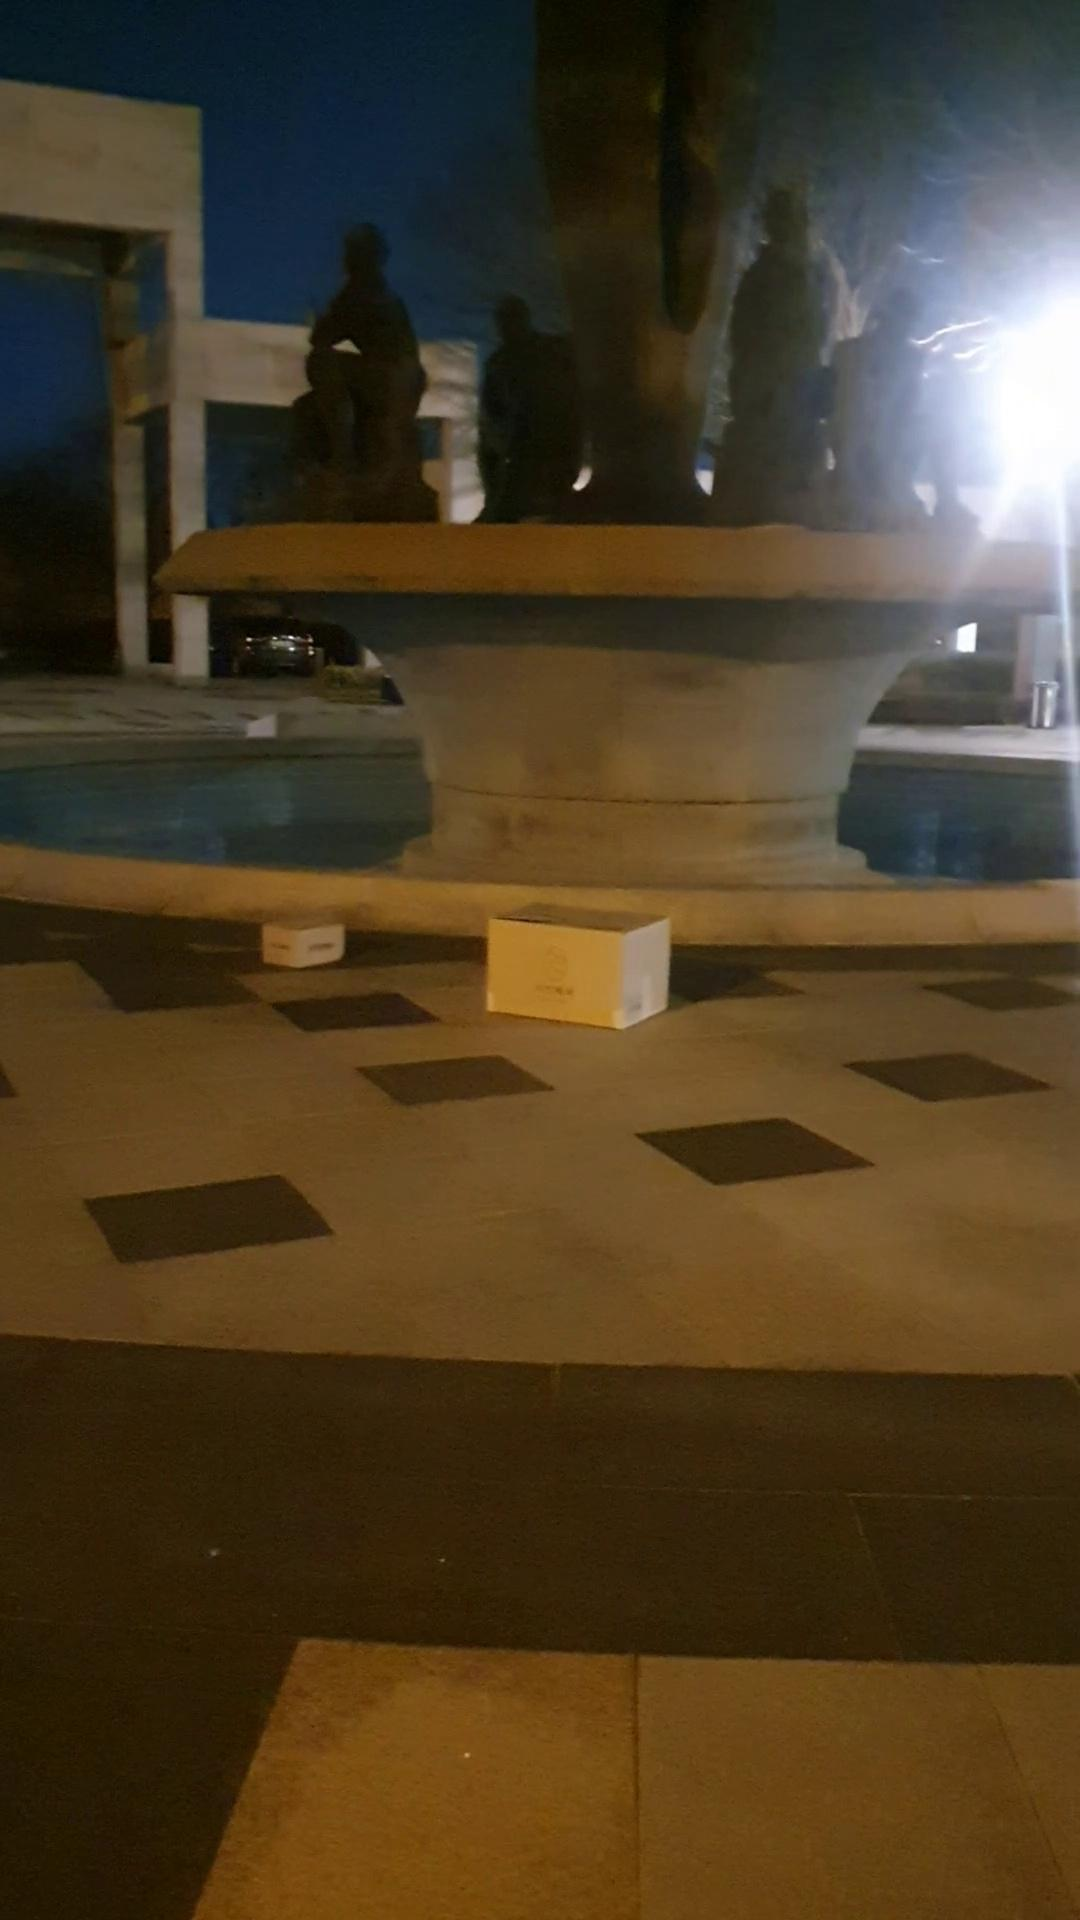Box: (483, 903, 682, 1029), (241, 885, 357, 971)
